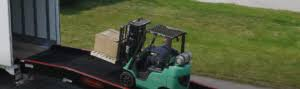Pallet Jack: (91, 17, 195, 89)
